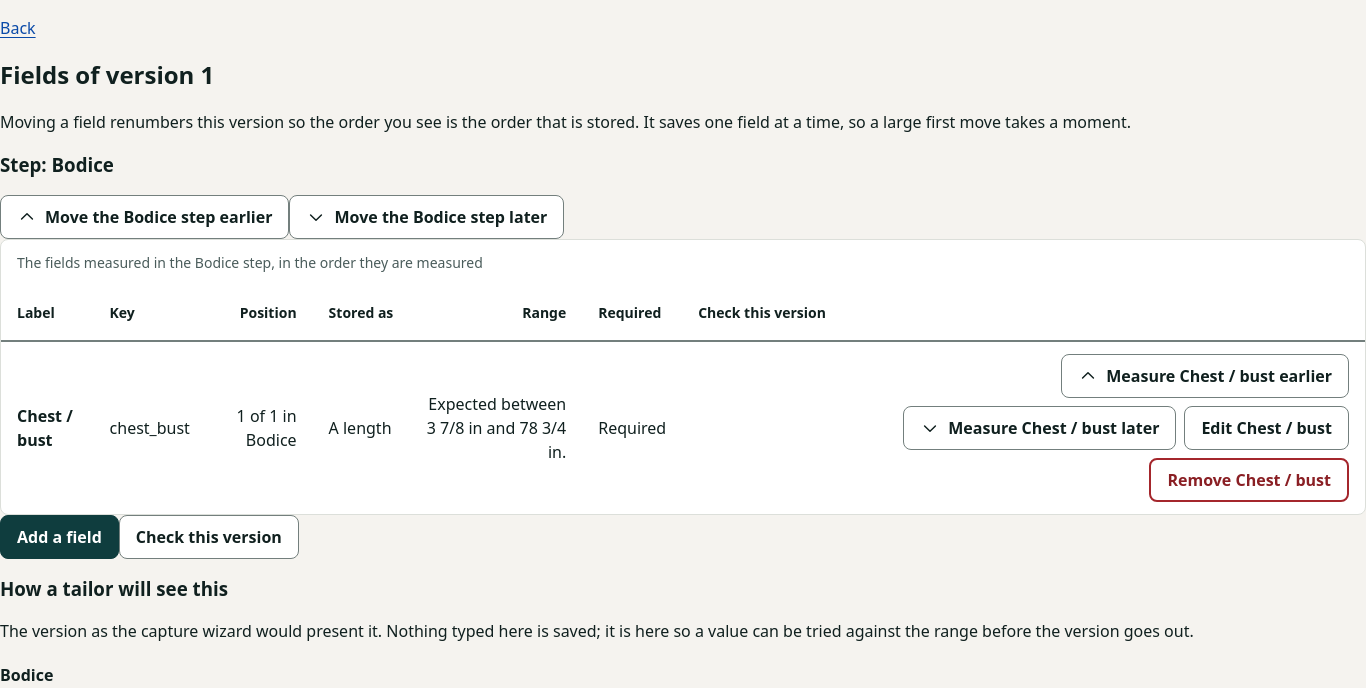
Test: does not offer to rename a key, and says what a rename actually is
Check: the table is shown, box [1,240,1365,514]
Click the button "Edit Chest / bust": (1267, 428) [1184,406,1349,450]
(page scrolled)
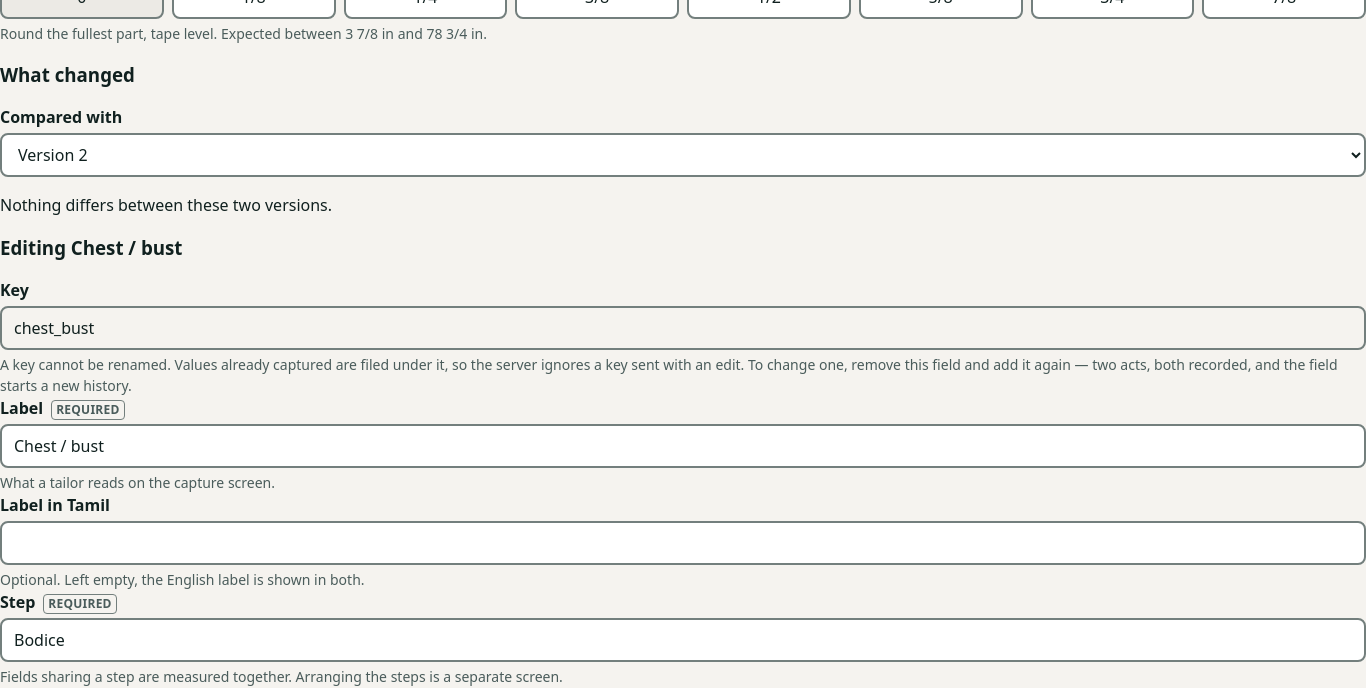
Check: the text "remove this field and add it again" is shown, box [0,355,1338,395]
